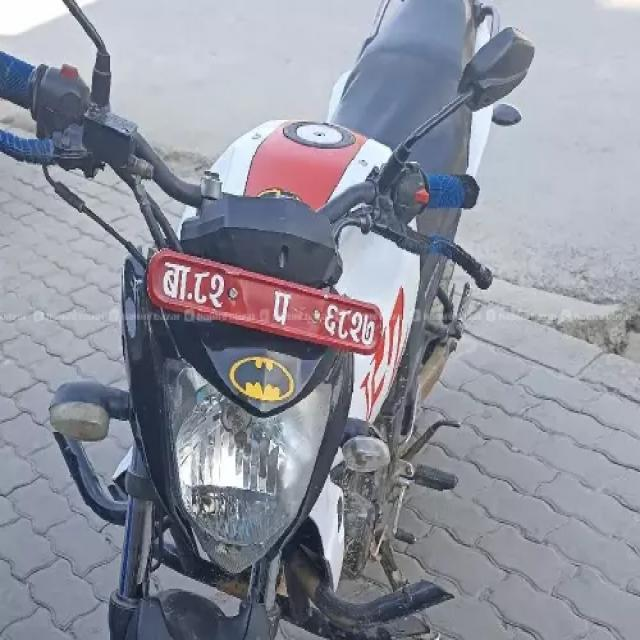License-plate: (149, 253, 384, 359)
